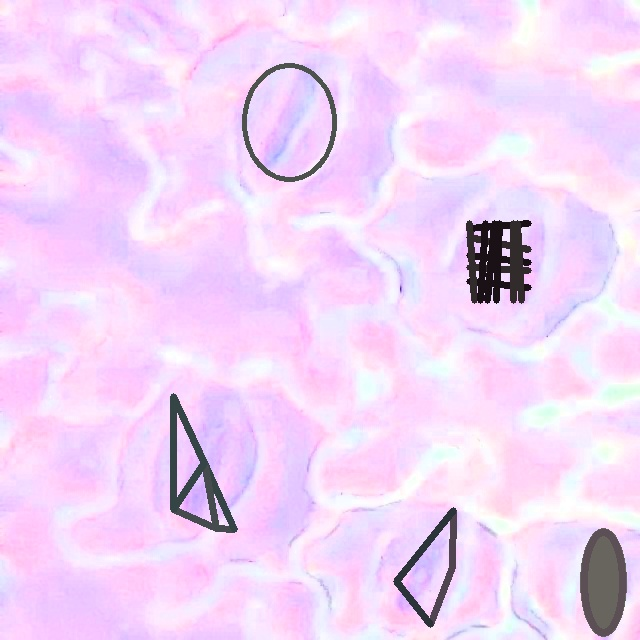close: (466, 220, 531, 303)
open: (242, 63, 336, 181), (170, 393, 237, 531), (393, 508, 454, 626), (580, 527, 626, 636)
